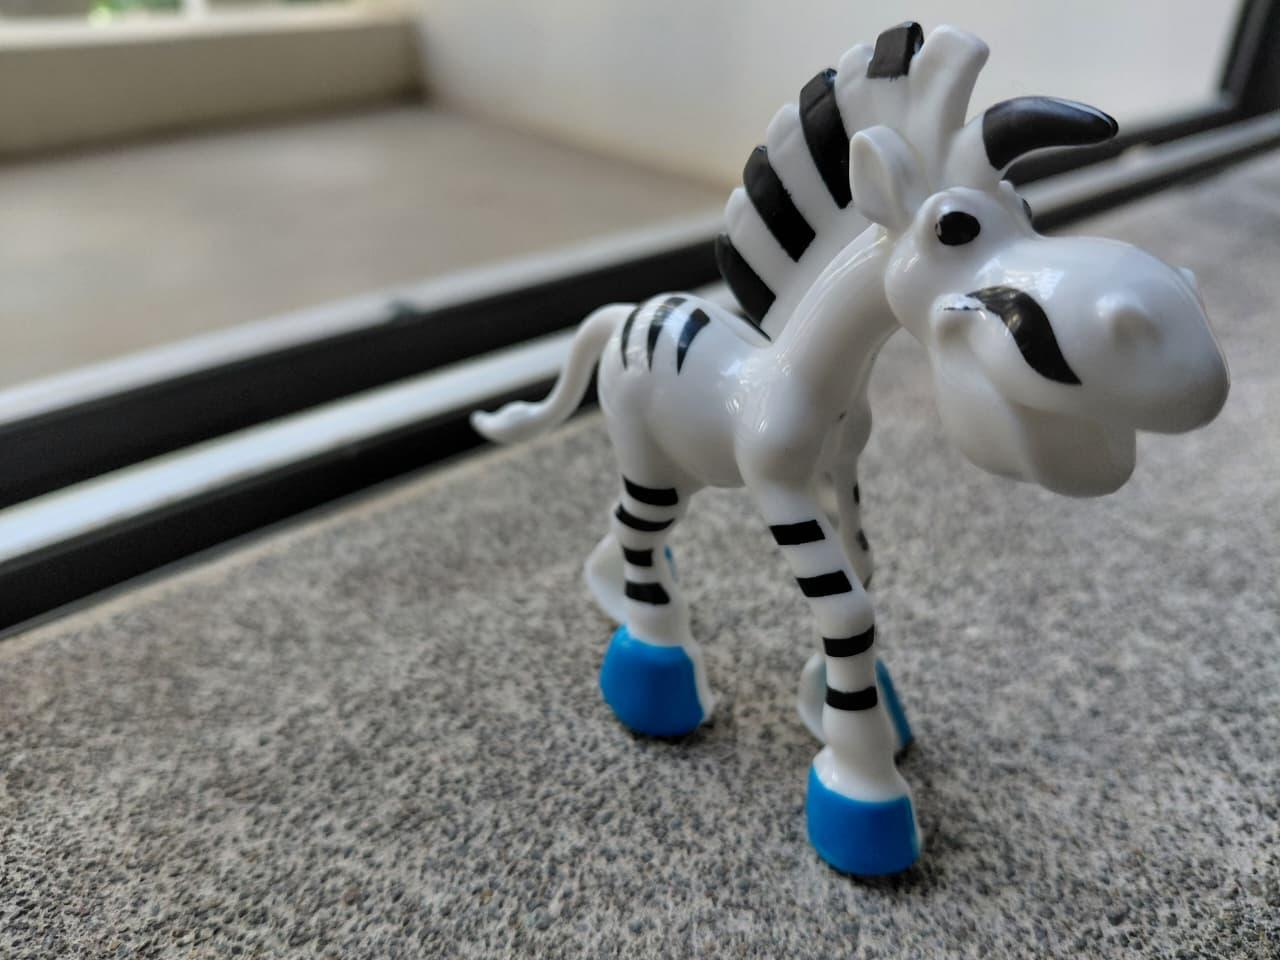zebra: (400, 12, 1247, 894)
